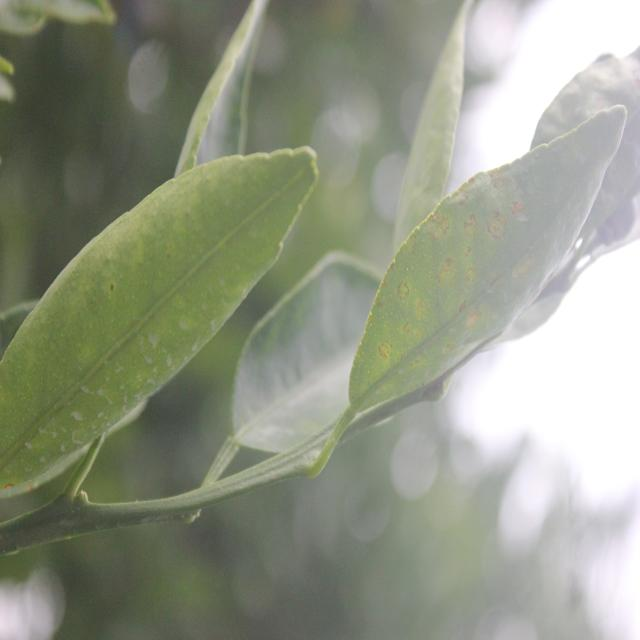canker: (367, 165, 566, 401)
